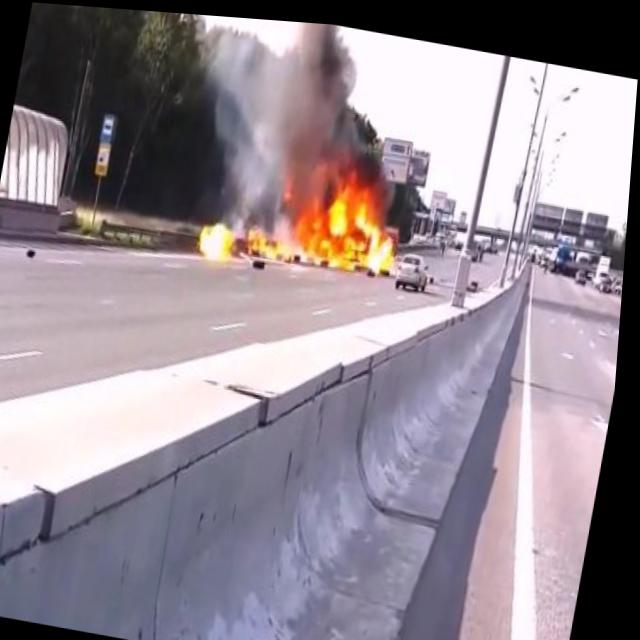fire: (276, 147, 414, 277), (191, 211, 249, 267), (243, 215, 298, 260)
